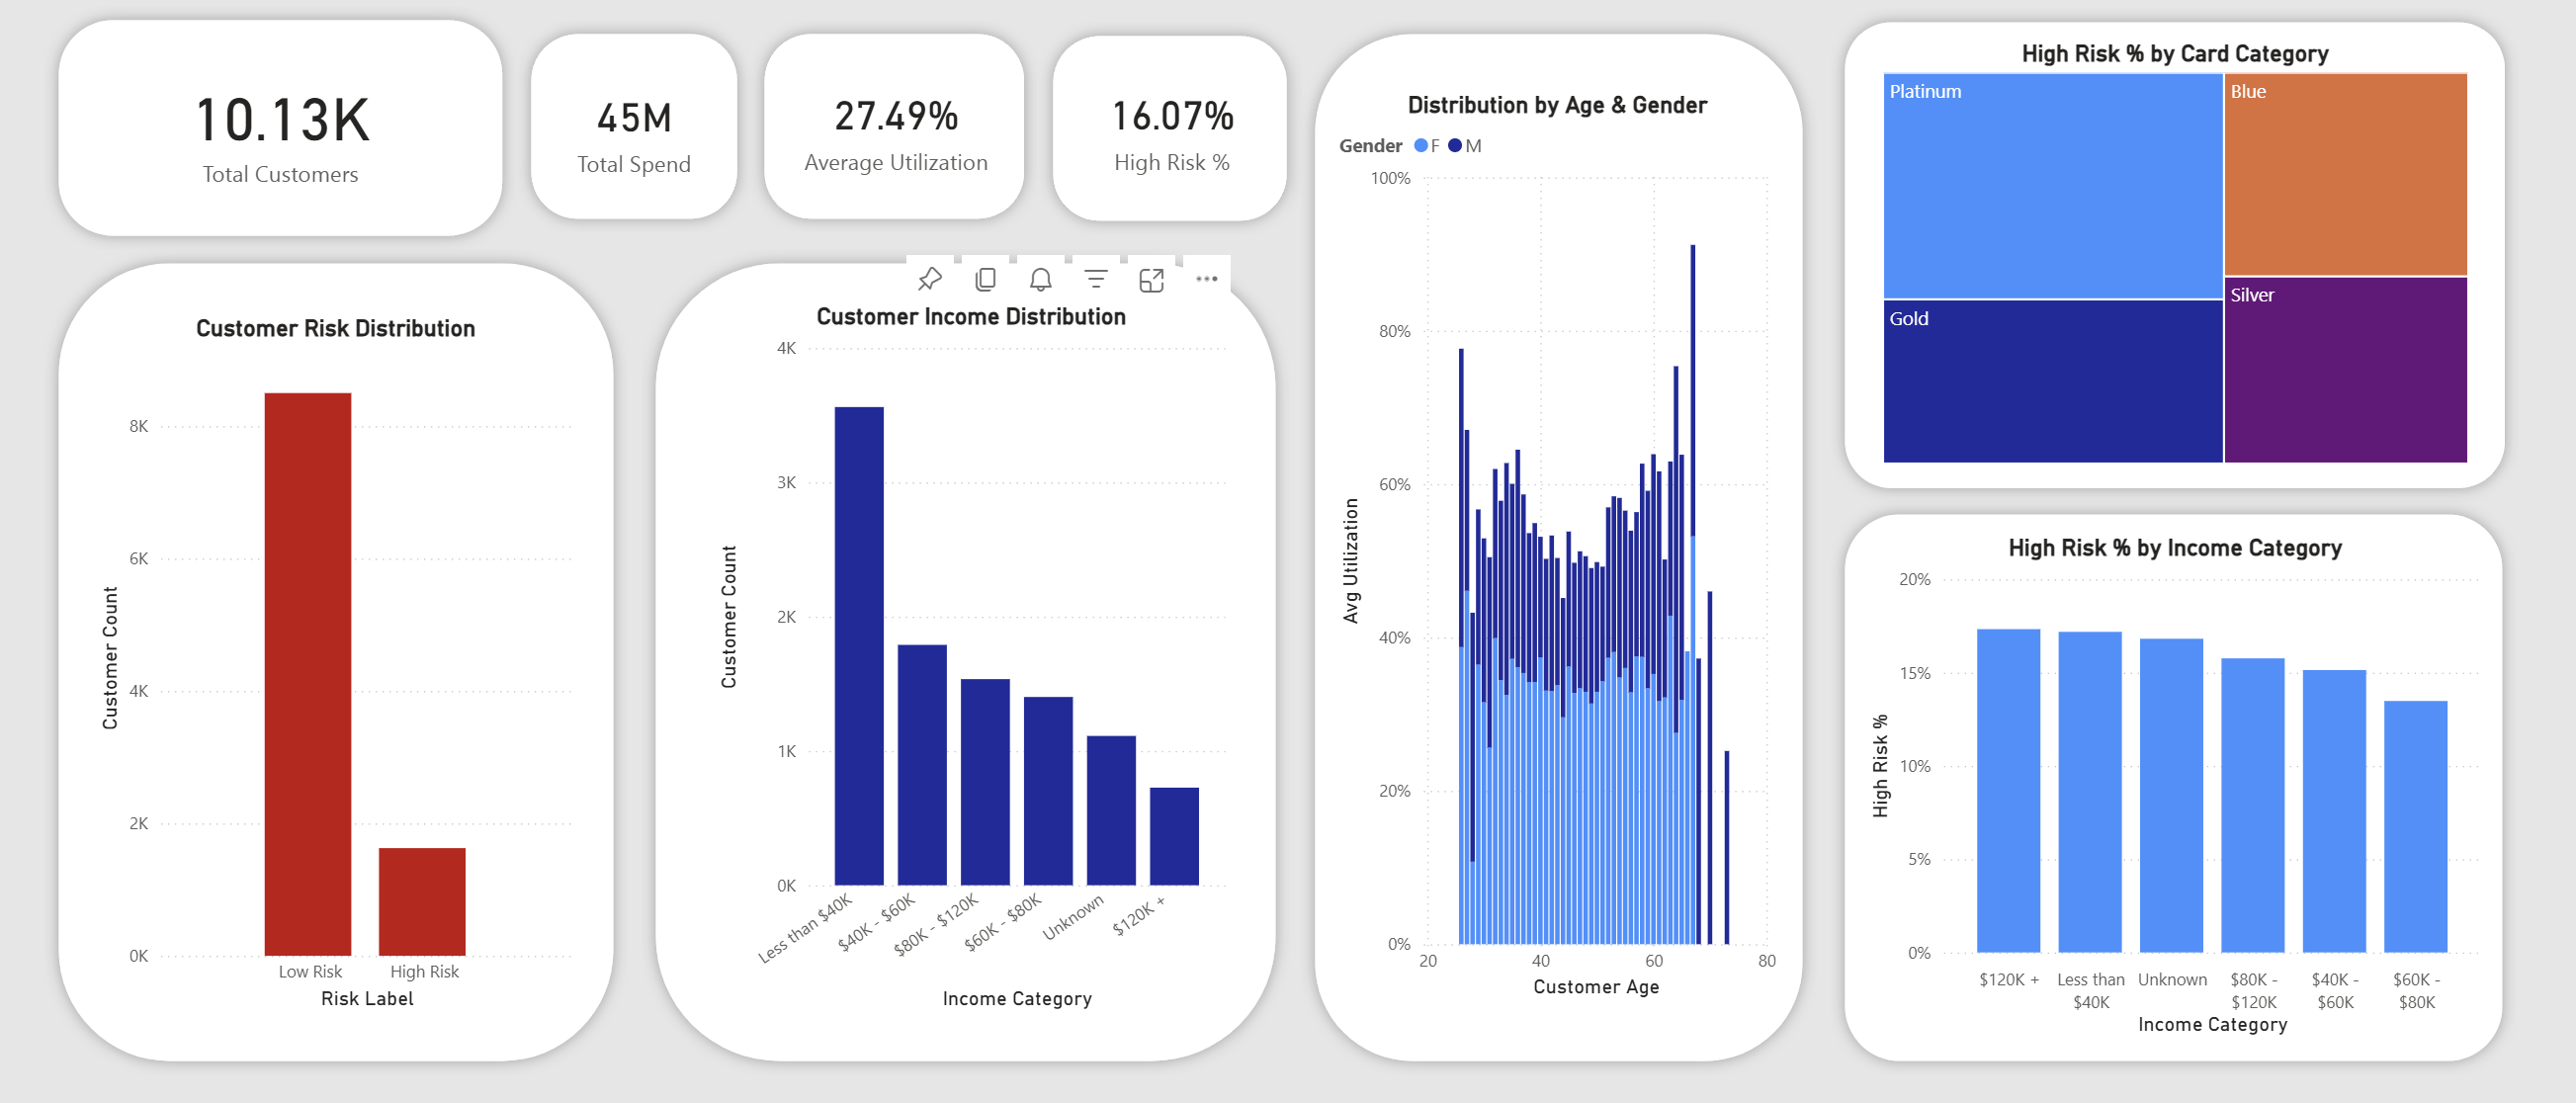

This screenshot's page, from the dashboard's own definition file:
{"tool":"powerbi","page":{"name":"Executive Portfolio Overview","canvas":[1800,800],"ordinal":0},"visuals":[{"type":"shape","box":[0,2.4,341.2,176.5],"z":0},{"type":"card","fields":{"Values":["CountNonNull(card_customers.clientnum)"]},"box":[34.1,25.9,272.9,130.6],"z":1000},{"type":"shape","box":[341.2,12.9,169.4,154.1],"z":2000},{"type":"card","fields":{"Values":["Sum(card_customers.total_trans_amt)"]},"box":[365.9,36.5,121.2,110.6],"z":3000},{"type":"shape","box":[510.6,12.9,208.2,154.1],"z":4000},{"type":"card","fields":{"Values":["Avg(card_customers.avg_utilization_ratio)"]},"box":[541.2,35.3,148.2,110.6],"z":5000},{"type":"shape","box":[718.8,14.1,189.4,154.1],"z":6000},{"type":"card","fields":{"Values":["Avg(card_customers.risk_flag)"]},"box":[754.1,35.3,121.2,110.6],"z":7000},{"type":"shape","box":[0,178.6,421.4,597.1],"z":8000},{"type":"clusteredColumnChart","title":"Customer Risk Distribution","fields":{"Category":["card_customers.Risk Label"],"Y":["CountNonNull(card_customers.clientnum)"]},"box":[34.3,225.7,352.9,507.1],"z":9000},{"type":"shape","box":[431.4,178.6,468.6,597.1],"z":10000},{"type":"clusteredColumnChart","title":"Customer Income Distribution","fields":{"Category":["card_customers.income_category"],"Y":["CountNonNull(card_customers.clientnum)"]},"box":[481.4,217.1,377.1,515.7],"z":11000},{"type":"shape","box":[907.1,12.9,372.9,762.9],"z":12000},{"type":"shape","box":[1290,3.8,497.5,357.5],"z":13000},{"type":"treemap","title":"High Risk % by Card Category","fields":{"Group":["card_customers.card_category"],"Values":["Avg(card_customers.risk_flag)"]},"box":[1322.9,27.1,432.9,311.4],"z":14000},{"type":"shape","box":[1290,360,495.7,415.7],"z":15000},{"type":"clusteredColumnChart","fields":{"Y":["Avg(card_customers.risk_flag)"],"Category":["card_customers.income_category"]},"box":[1312.9,384.3,452.9,367.1],"z":16000},{"type":"columnChart","title":"Distribution by Age & Gender","fields":{"Category":["card_customers.customer_age"],"Series":["card_customers.gender"],"Y":["Avg(card_customers.avg_utilization_ratio)"]},"box":[930,64.3,325.7,660],"z":17000}]}

Visuals, with their boxes on the page's 1800x800 design canvas (x1, y1, x2, y2). These are canvas units, not pixel positions in the 2576x1103 screenshot, which may show the page scaled, cropped or inside an application window:
shape: detection(0, 2, 341, 179)
card - CountNonNull(card_customers.clientnum): detection(34, 26, 307, 156)
shape: detection(341, 13, 511, 167)
card - Sum(card_customers.total_trans_amt): detection(366, 36, 487, 147)
shape: detection(511, 13, 719, 167)
card - Avg(card_customers.avg_utilization_ratio): detection(541, 35, 689, 146)
shape: detection(719, 14, 908, 168)
card - Avg(card_customers.risk_flag): detection(754, 35, 875, 146)
shape: detection(0, 179, 421, 776)
"Customer Risk Distribution" clusteredColumnChart: detection(34, 226, 387, 733)
shape: detection(431, 179, 900, 776)
"Customer Income Distribution" clusteredColumnChart: detection(481, 217, 858, 733)
shape: detection(907, 13, 1280, 776)
shape: detection(1290, 4, 1788, 361)
"High Risk % by Card Category" treemap: detection(1323, 27, 1756, 338)
shape: detection(1290, 360, 1786, 776)
clusteredColumnChart - Avg(card_customers.risk_flag) x card_customers.income_category: detection(1313, 384, 1766, 751)
"Distribution by Age & Gender" columnChart: detection(930, 64, 1256, 724)
